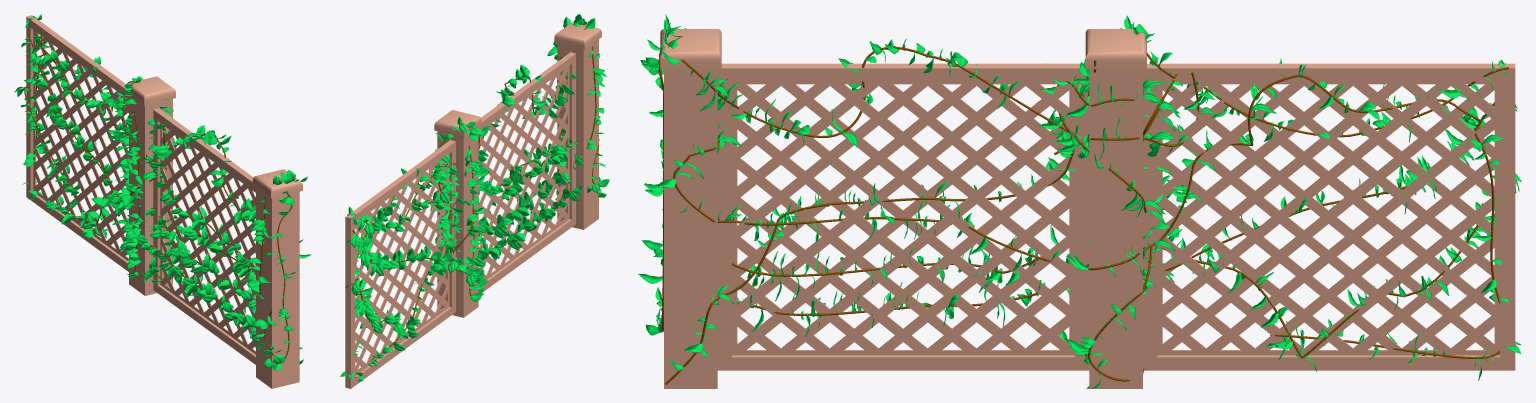
The model's file is Fence.fbx.
The picture shows the model from 3 angles, left to right: view 1: azimuth 30°, elevation 25°; view 2: azimuth 150°, elevation 25°; view 3: azimuth 270°, elevation 25°; orthographic projection. The views are drawn at different scales.
Visible parts, largest first — view 1: Fence, Leafs, Vine; view 2: Fence, Leafs, Vine; view 3: Fence, Leafs, Vine.
Boxes of the visible parts, left/top/right/bottom form: Fence: left=26, top=15, right=302, bottom=388; Leafs: left=14, top=14, right=311, bottom=370; Vine: left=24, top=16, right=292, bottom=358; Fence: left=345, top=22, right=601, bottom=388; Leafs: left=340, top=14, right=609, bottom=381; Vine: left=345, top=24, right=600, bottom=370; Fence: left=660, top=29, right=1515, bottom=388; Leafs: left=638, top=14, right=1521, bottom=388; Vine: left=658, top=27, right=1516, bottom=384.
Size of the model in its own units: 89 by 339 by 754.
